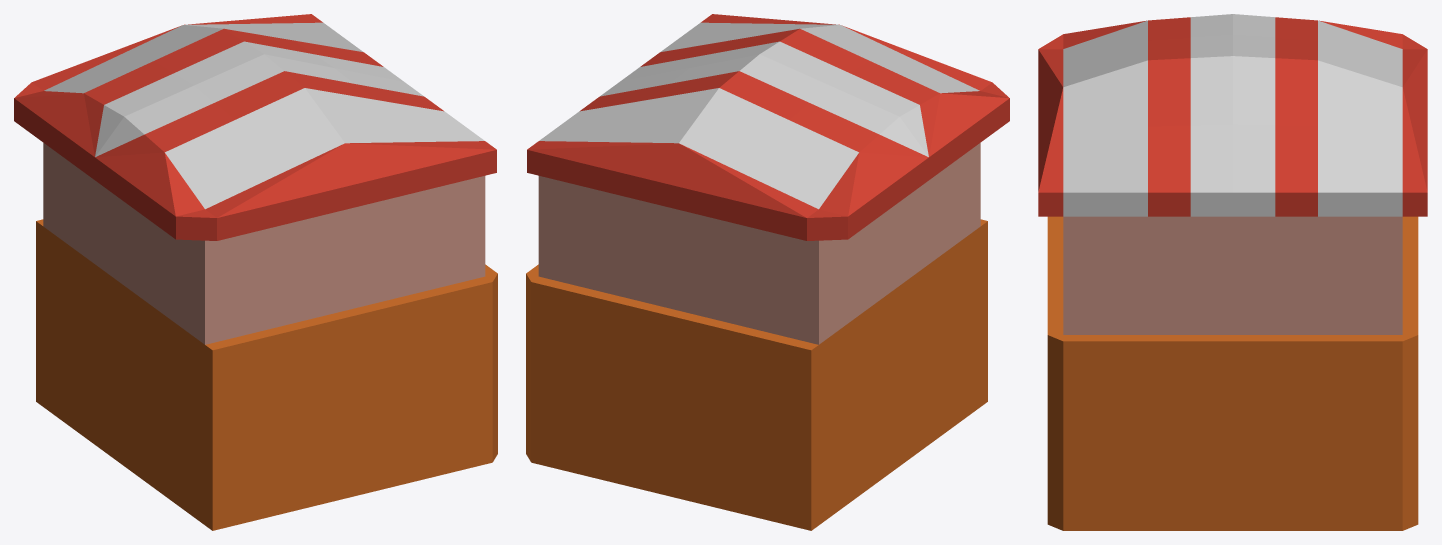
Rendered from Pirate_1.fbx.
The picture shows the model from 3 angles, left to right: view 1: azimuth 30°, elevation 25°; view 2: azimuth 150°, elevation 25°; view 3: azimuth 270°, elevation 25°; orthographic projection. The views are drawn at different scales.
Visible parts, largest first — view 1: Cube; view 2: Cube; view 3: Cube.
Boxes of the visible parts, <box> form: Cube: <box>14,14,497,530</box>; Cube: <box>526,14,1009,530</box>; Cube: <box>1038,14,1427,530</box>.
Size of the model in its own units: 230 by 258 by 229.
